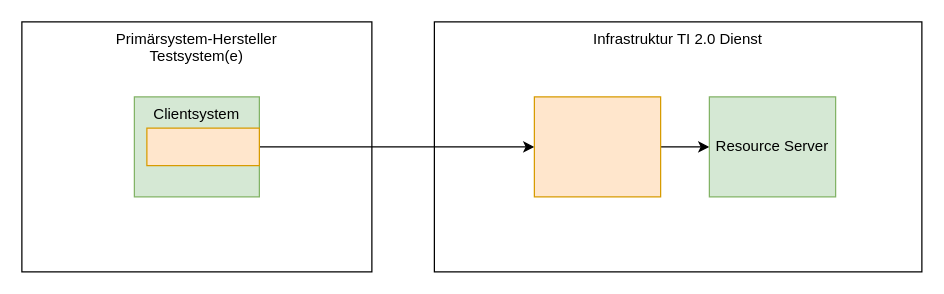
The diagram is 944 pixels wide and 294 high, and some of its shapes have lost their labels. Each missing label, with the centre of its shape:
"ZETA Client" goes at point (202, 146).
"ZETA Guard" goes at point (597, 146).
